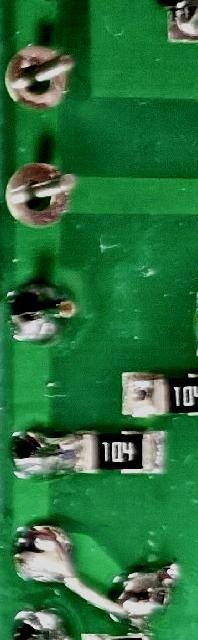chip-resistor: (69, 428, 167, 477), (118, 370, 198, 421)
